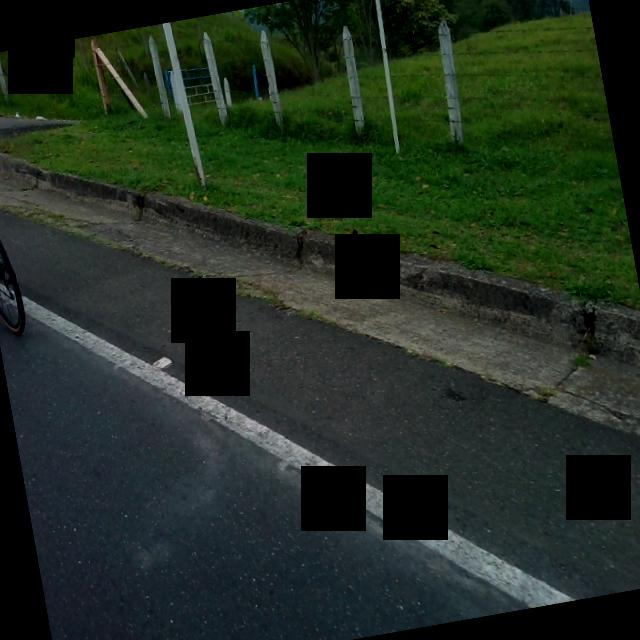DITCH: (0, 0, 640, 640), (0, 38, 640, 640), (0, 40, 640, 640)
